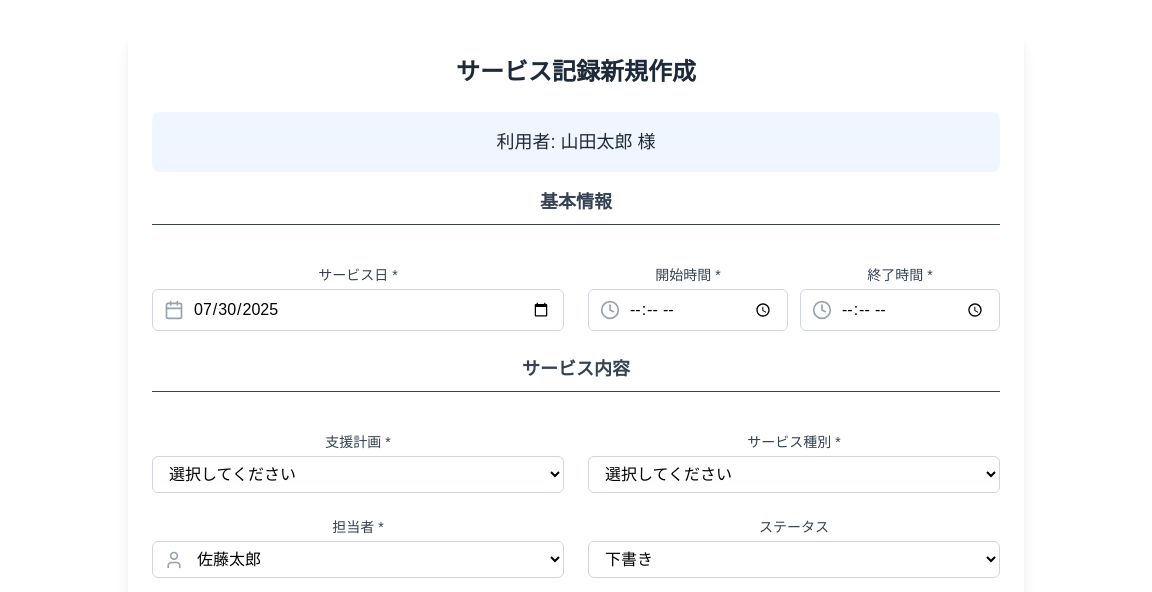
it: ServiceLogForm › フォーム入力 › 時間計算が正しく表示される
Type "09:00" into the time field labelled "開始時間 *" at [688, 310], box x1=588 y1=289 x2=788 y2=331
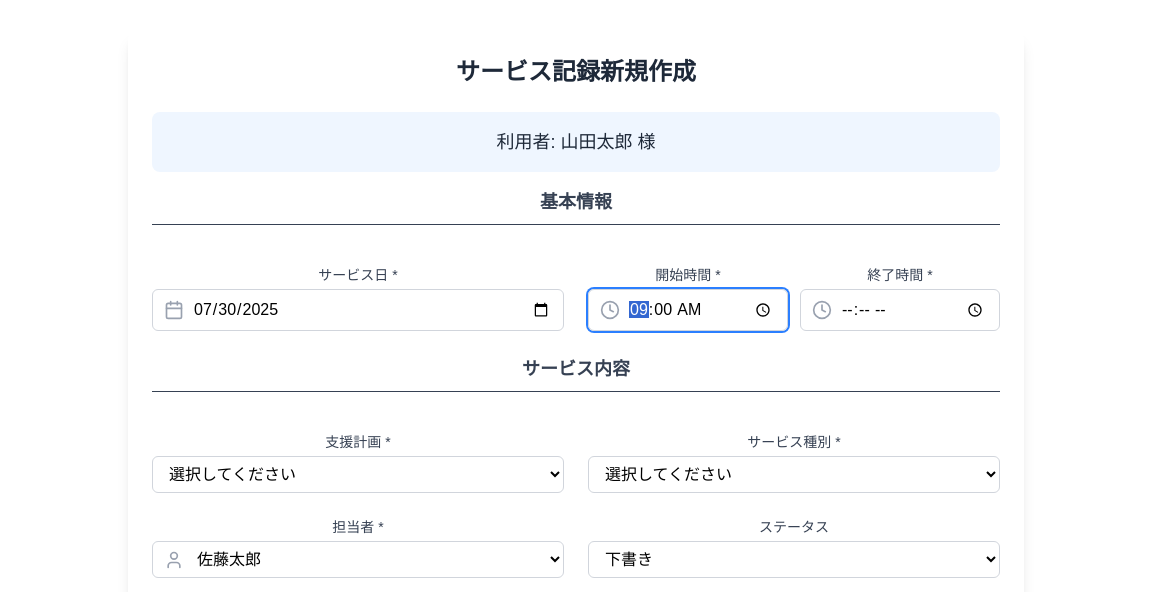
Type "11:30" into the time field labelled "終了時間 *" at [900, 310], box x1=800 y1=289 x2=1000 y2=331
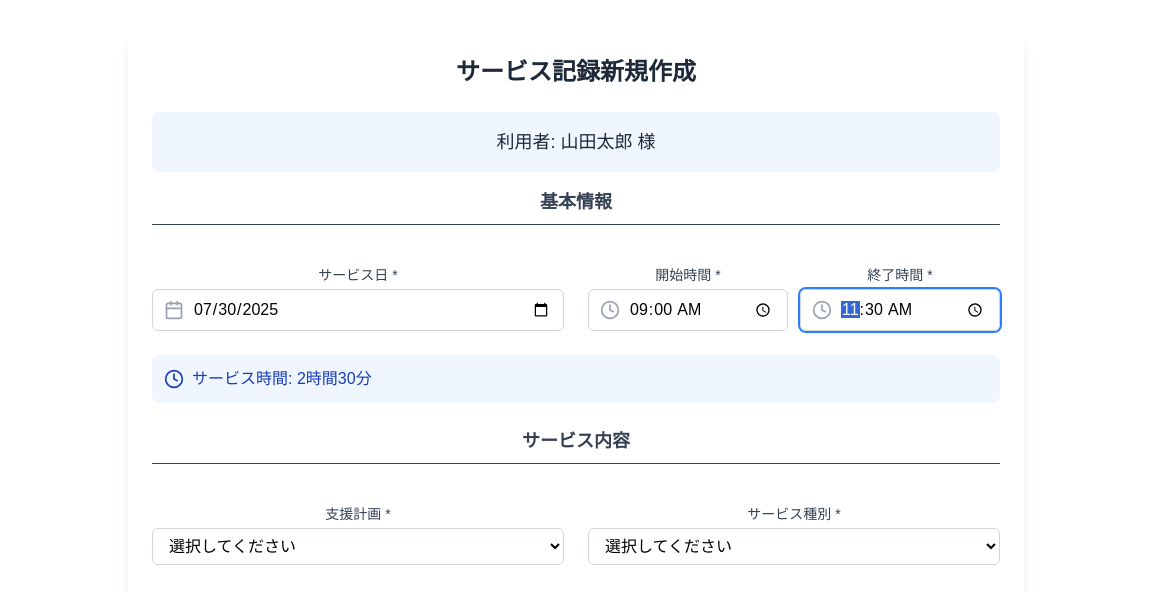
expect the text "サービス時間: 2時間30分" is shown: met, box x1=192 y1=367 x2=372 y2=391
